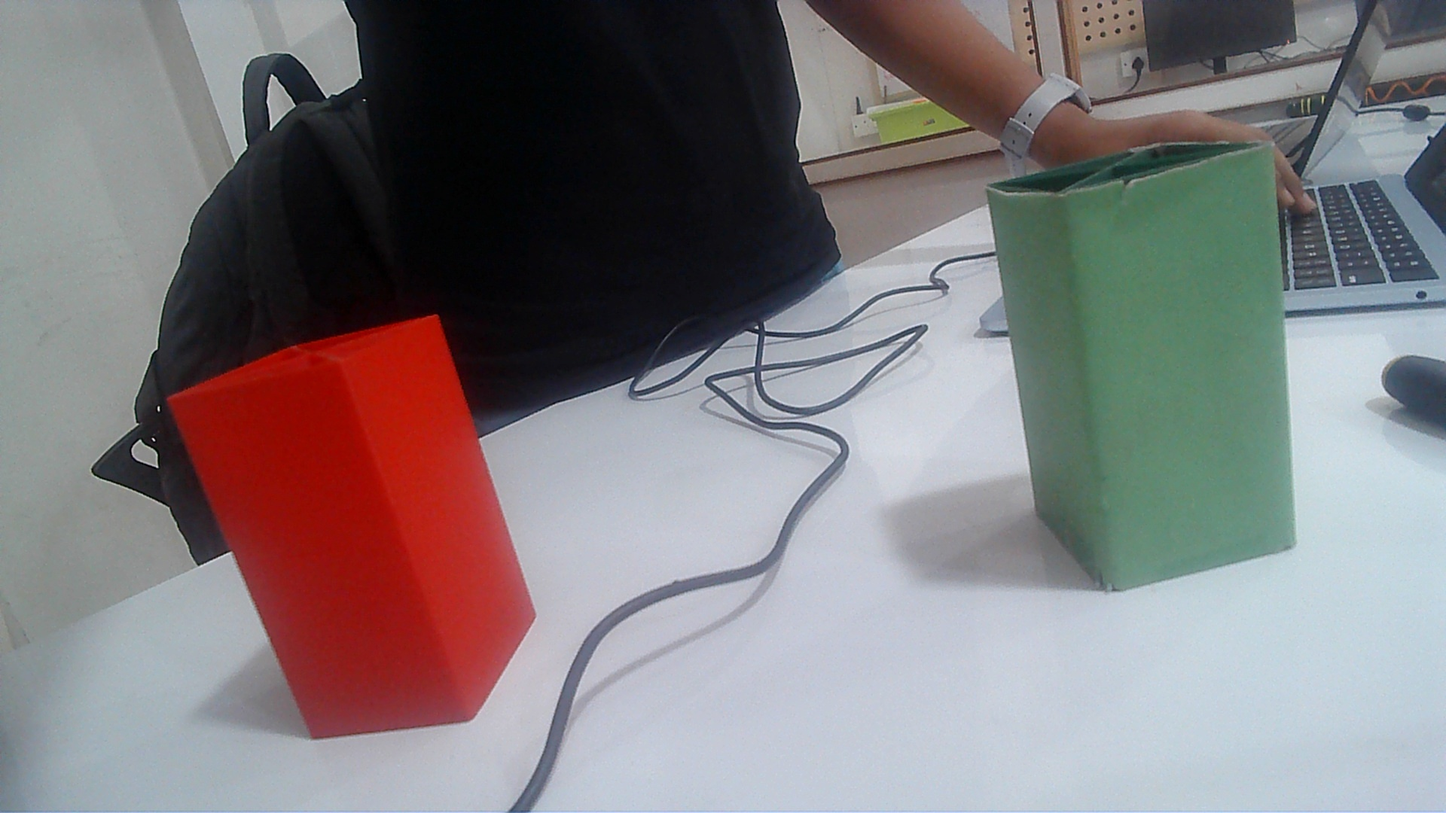red: (227, 334, 474, 754)
